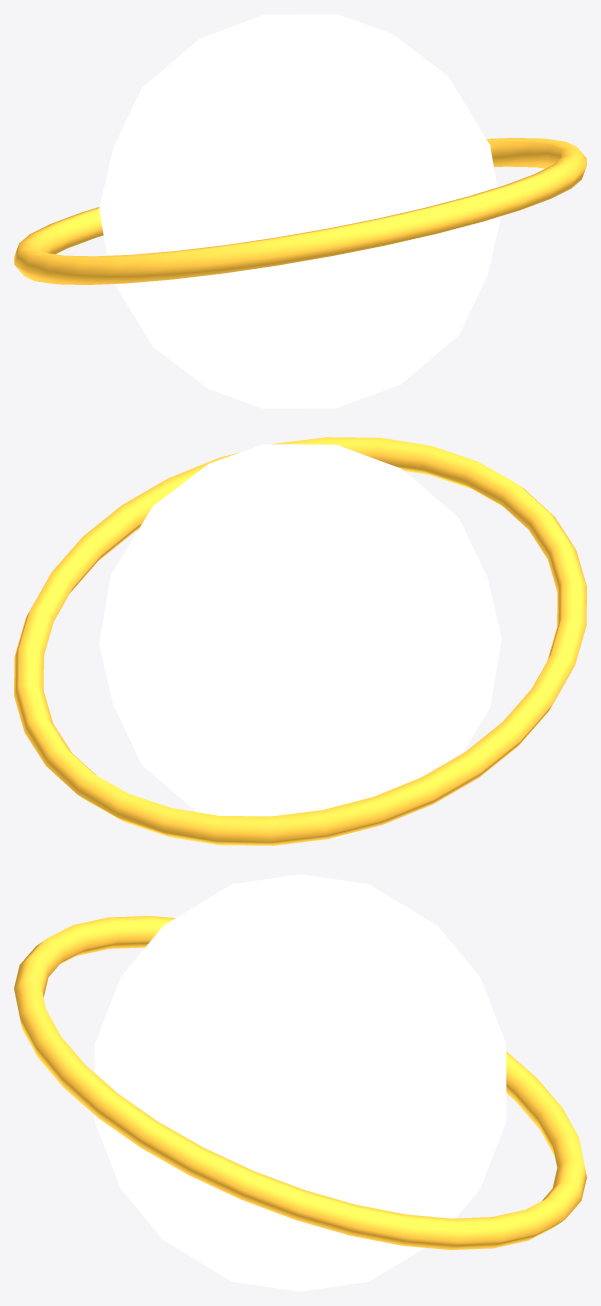
Rendered from orb-open.glb.
3 views of the same model, one above another, from view 1: azimuth 30°, elevation 25°; view 2: azimuth 150°, elevation 25°; view 3: azimuth 270°, elevation 25° (orthographic). The views are drawn at different scales.
Parts seen in each view (by area): view 1: Orb, Ring; view 2: Orb, Ring; view 3: Orb, Ring.
Boxes of the visible parts, bbox=[...] form: Orb: bbox=[99, 14, 501, 408]; Ring: bbox=[14, 138, 586, 284]; Orb: bbox=[99, 444, 501, 838]; Ring: bbox=[14, 437, 586, 845]; Orb: bbox=[94, 874, 506, 1291]; Ring: bbox=[14, 916, 586, 1249].
Size of the model in its own units: 1.16 by 0.7835 by 1.09.
